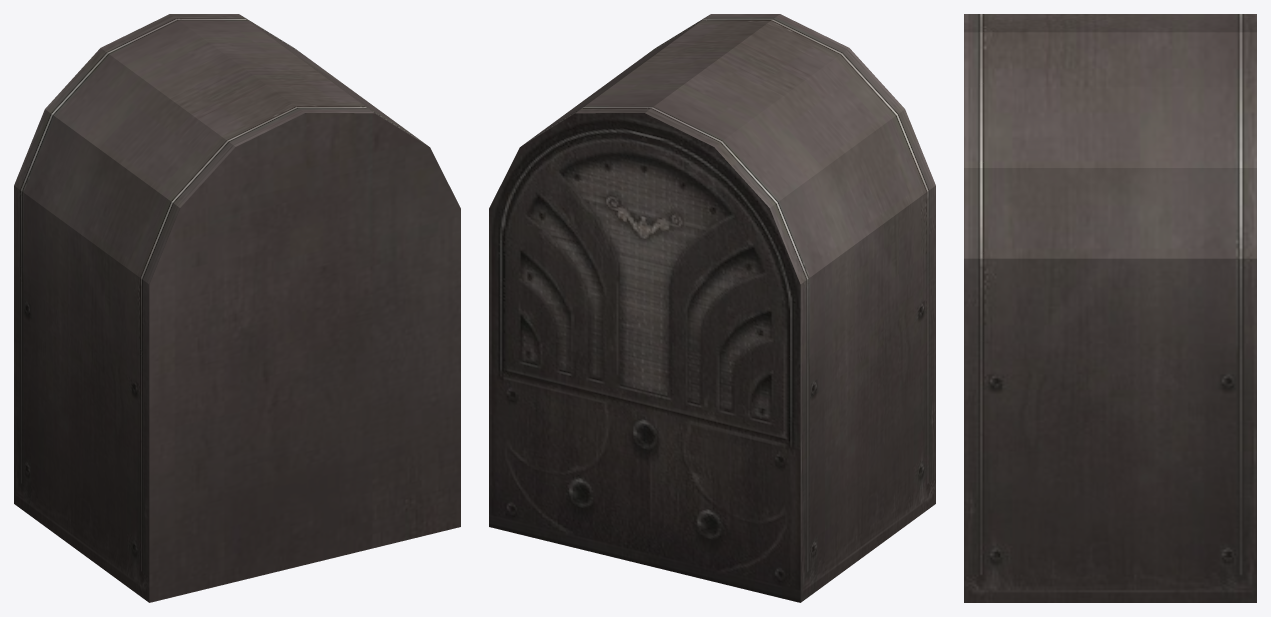
The model's file is Radio.FBX.
The picture shows the model from 3 angles, left to right: view 1: azimuth 30°, elevation 25°; view 2: azimuth 150°, elevation 25°; view 3: azimuth 270°, elevation 25°; orthographic projection. The views are drawn at different scales.
Parts seen in each view (by area): view 1: Radio; view 2: Radio; view 3: Radio.
Boxes of the visible parts, x1,y1,x2,y2 form: Radio: (14, 14, 460, 602); Radio: (489, 14, 935, 602); Radio: (964, 14, 1256, 602).
Bounding box in the file's own units: 10.39 × 7.82 × 14.4.
